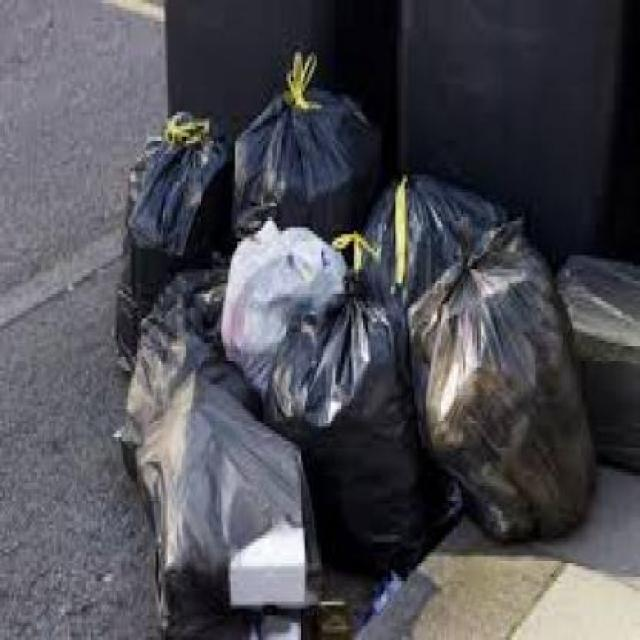garbage: (105, 66, 638, 636)
